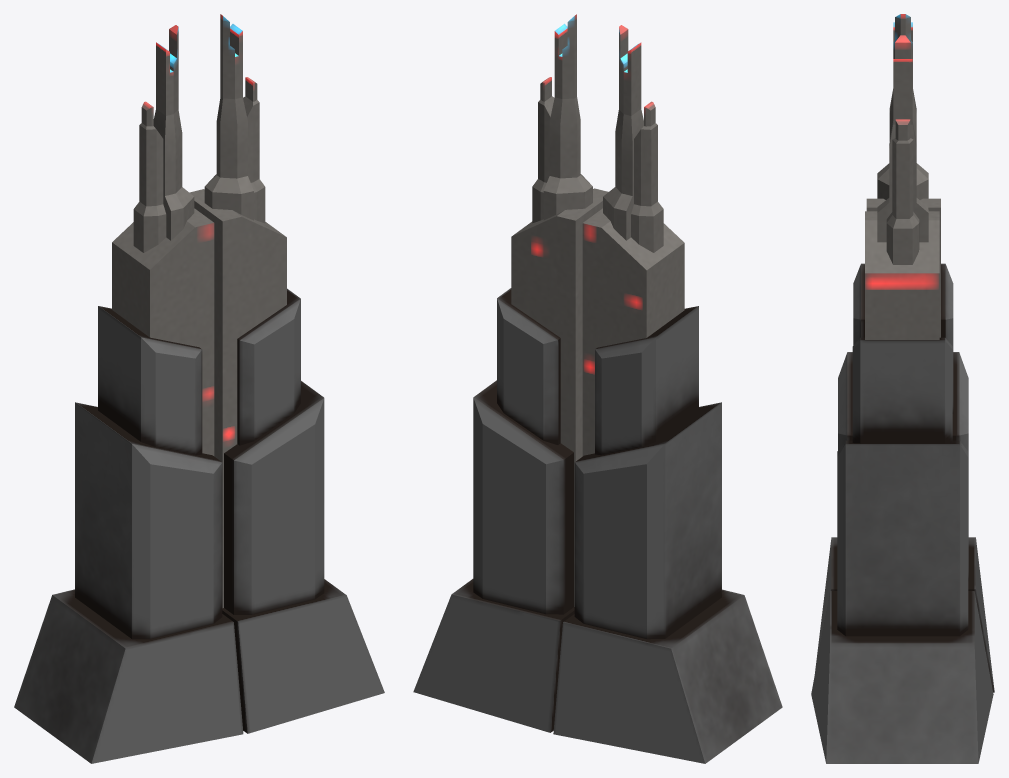
File: SM_BackgroundBuilding_016.fbx
3 renders of one model, left to right at view 1: azimuth 30°, elevation 25°; view 2: azimuth 150°, elevation 25°; view 3: azimuth 270°, elevation 25°, orthographic.
Visible parts, largest first — view 1: SM_BackgroundBuilding_016_LOD0; view 2: SM_BackgroundBuilding_016_LOD0; view 3: SM_BackgroundBuilding_016_LOD0.
Boxes of the visible parts, box(x1,y1,x2,y2) form: SM_BackgroundBuilding_016_LOD0: box(14, 14, 384, 763); SM_BackgroundBuilding_016_LOD0: box(413, 14, 782, 763); SM_BackgroundBuilding_016_LOD0: box(811, 14, 994, 763).
Bounding box in the file's own units: 2177 × 1200 × 4827.
1 material, 1 textured.
